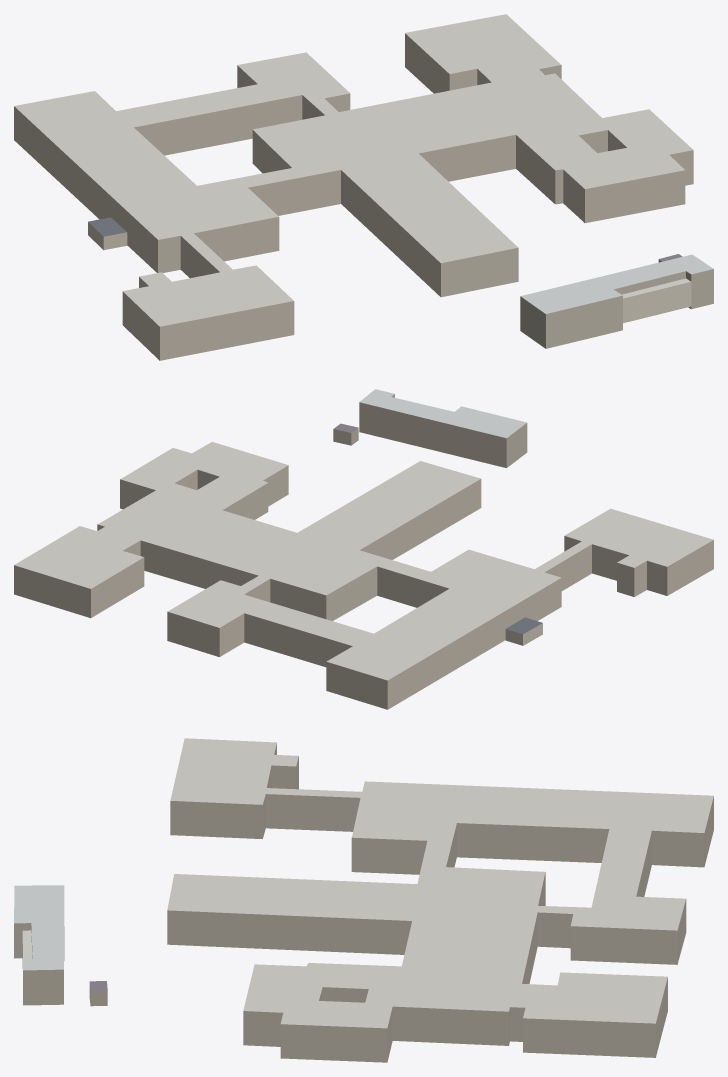
The picture shows the model from 3 angles, top to bottom: view 1: azimuth 30°, elevation 25°; view 2: azimuth 150°, elevation 25°; view 3: azimuth 270°, elevation 25°; orthographic projection. The views are drawn at different scales.
Parts seen in each view (by area): view 1: tuile; view 2: tuile; view 3: tuile.
Boxes of the visible parts, <box> form: tuile: <box>14,14,713,360</box>; tuile: <box>14,389,713,709</box>; tuile: <box>14,738,713,1062</box>.
Size of the model in its own units: 158 by 8.99 by 161.
